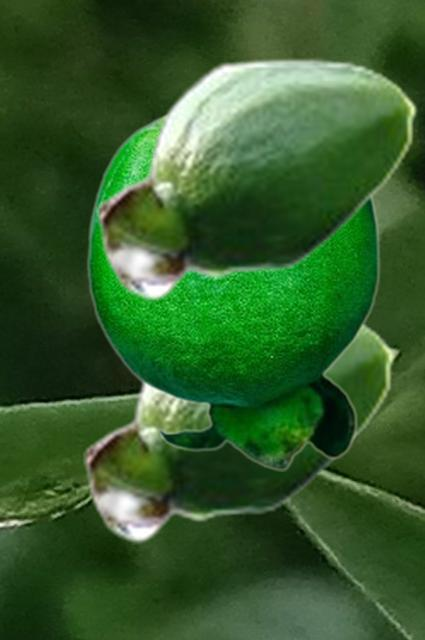guava: (85, 112, 380, 470), (96, 56, 417, 301), (83, 320, 395, 543)
